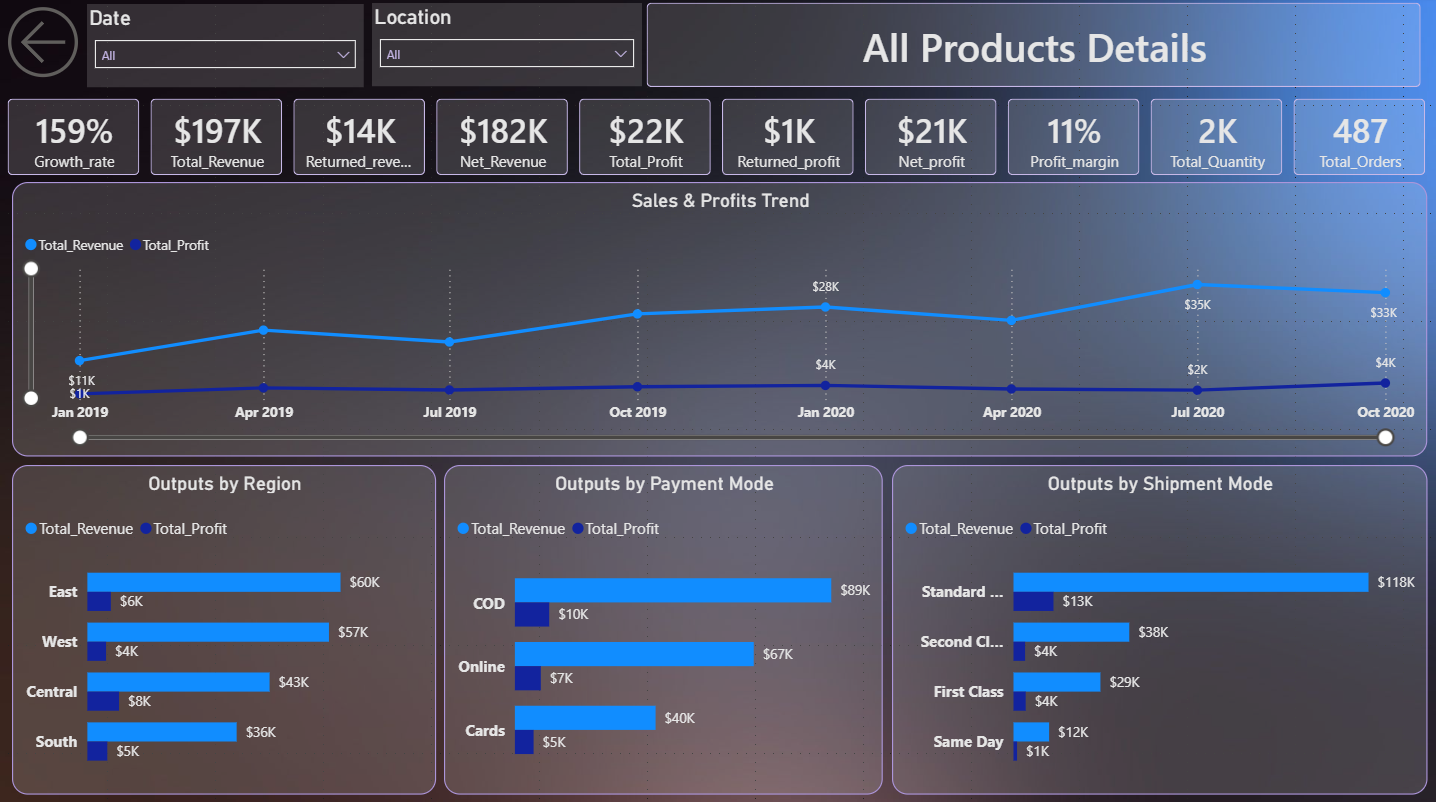

What the dashboard file says about the page in this screenshot:
{"tool":"powerbi","page":{"name":"Product Details","canvas":[1280,720],"ordinal":6},"visuals":[{"type":"cardVisual","fields":{"Data":["Measurements.Growth_rate","Measurements.Total_Revenue","Measurements.Returned_revenue","Measurements.Net_revenue","Measurements.Total_Profit","Measurements.Returned_profit","Measurements.Net_profit","Measurements.Profit_margin","Measurements.Total_Quantity","Measurements.Total_Orders"]},"box":[2.8,85.3,1270.4,78.5],"z":1000},{"type":"slicer","title":"Location","fields":{"Values":["FactSales.Region"]},"box":[331.5,4.9,239.5,74.2],"z":3000},{"type":"actionButton","box":[0,0,78.2,80],"z":12000},{"type":"cardVisual","fields":{"Data":["Measurements.Page Title"]},"box":[571.1,0,698.7,85.1],"z":13000},{"type":"slicer","title":"Date","fields":{"Values":["SalesForcast.Order Date.Variation.Date Hierarchy.Year","SalesForcast.Order Date.Variation.Date Hierarchy.Quarter","SalesForcast.Order Date.Variation.Date Hierarchy.Month"]},"box":[78.2,5.9,246.4,74.2],"z":13001},{"type":"lineChart","title":"Sales & Profits Trend","fields":{"Category":["FactSales.Order Date.Variation.Date Hierarchy.Year","FactSales.Order Date.Variation.Date Hierarchy.Quarter","FactSales.Order Date.Variation.Date Hierarchy.Month"],"Y":["Measurements.Total_Revenue","Measurements.Total_Profit"]},"box":[11.6,164.4,1257.8,244.4],"z":13002},{"type":"clusteredBarChart","title":"Outputs by Region","fields":{"Category":["FactSales.Region"],"Y":["Measurements.Total_Revenue","Measurements.Total_Profit"]},"box":[11.6,416,376.9,293.3],"z":13003},{"type":"clusteredBarChart","title":"Outputs by Shipment Mode","fields":{"Y":["Measurements.Total_Revenue","Measurements.Total_Profit"],"Category":["FactSales.Ship Mode"]},"box":[793.8,416,475.6,293.3],"z":13004},{"type":"clusteredBarChart","title":"Outputs by Payment Mode","fields":{"Y":["Measurements.Total_Revenue","Measurements.Total_Profit"],"Category":["FactSales.Payment Mode"]},"box":[395.6,416,390.2,293.3],"z":13005}]}

Visuals, with their boxes in screenshot pixels (x1, y1, x2, y2), scaled from the page's 1280x720 canvas onto the 1436x802 screenshot:
cardVisual - Measurements.Growth_rate x Measurements.Total_Revenue: {"left": 3, "top": 95, "right": 1428, "bottom": 182}
"Location" slicer: {"left": 372, "top": 5, "right": 641, "bottom": 88}
actionButton: {"left": 0, "top": 0, "right": 88, "bottom": 89}
cardVisual - Measurements.Page Title: {"left": 641, "top": 0, "right": 1425, "bottom": 95}
"Date" slicer: {"left": 88, "top": 7, "right": 364, "bottom": 89}
"Sales & Profits Trend" lineChart: {"left": 13, "top": 183, "right": 1424, "bottom": 455}
"Outputs by Region" clusteredBarChart: {"left": 13, "top": 463, "right": 436, "bottom": 790}
"Outputs by Shipment Mode" clusteredBarChart: {"left": 891, "top": 463, "right": 1424, "bottom": 790}
"Outputs by Payment Mode" clusteredBarChart: {"left": 444, "top": 463, "right": 882, "bottom": 790}
